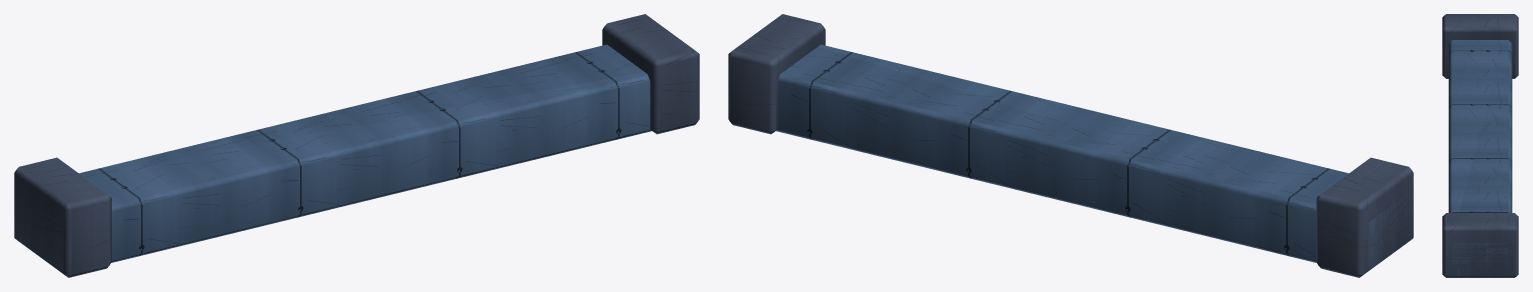
File: ceiling_beam.glb
The picture shows the model from 3 angles, left to right: view 1: azimuth 30°, elevation 25°; view 2: azimuth 150°, elevation 25°; view 3: azimuth 270°, elevation 25°; orthographic projection. The views are drawn at different scales.
Parts seen in each view (by area): view 1: ceiling_beam_navy_frame, ceiling_beam_graphite_navy; view 2: ceiling_beam_navy_frame, ceiling_beam_graphite_navy; view 3: ceiling_beam_navy_frame, ceiling_beam_graphite_navy.
Boxes of the visible parts, x1=… form: ceiling_beam_navy_frame: x1=18, y1=44, x2=651, y2=271; ceiling_beam_graphite_navy: x1=14, y1=14, x2=699, y2=277; ceiling_beam_navy_frame: x1=776, y1=44, x2=1408, y2=271; ceiling_beam_graphite_navy: x1=728, y1=14, x2=1413, y2=277; ceiling_beam_navy_frame: x1=1448, y1=40, x2=1512, y2=277; ceiling_beam_graphite_navy: x1=1442, y1=14, x2=1518, y2=277.
Size of the model in its own units: 4 by 0.48 by 0.6.
3 materials, 2 textured.
